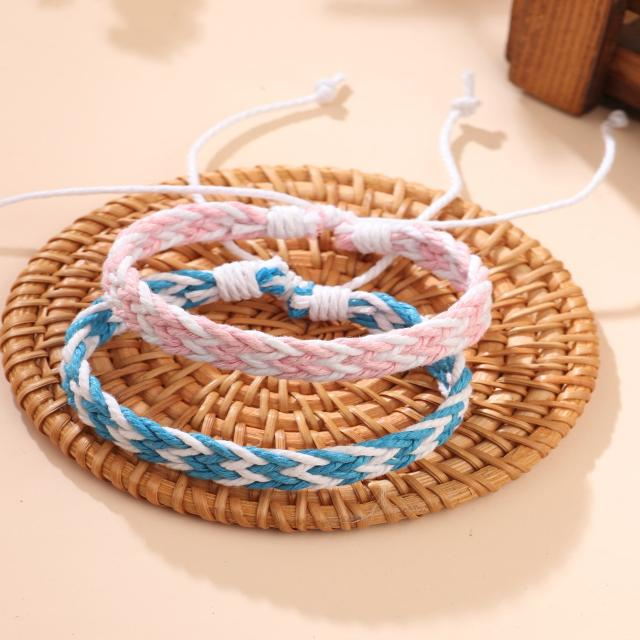bracelet: (3, 63, 640, 499)
